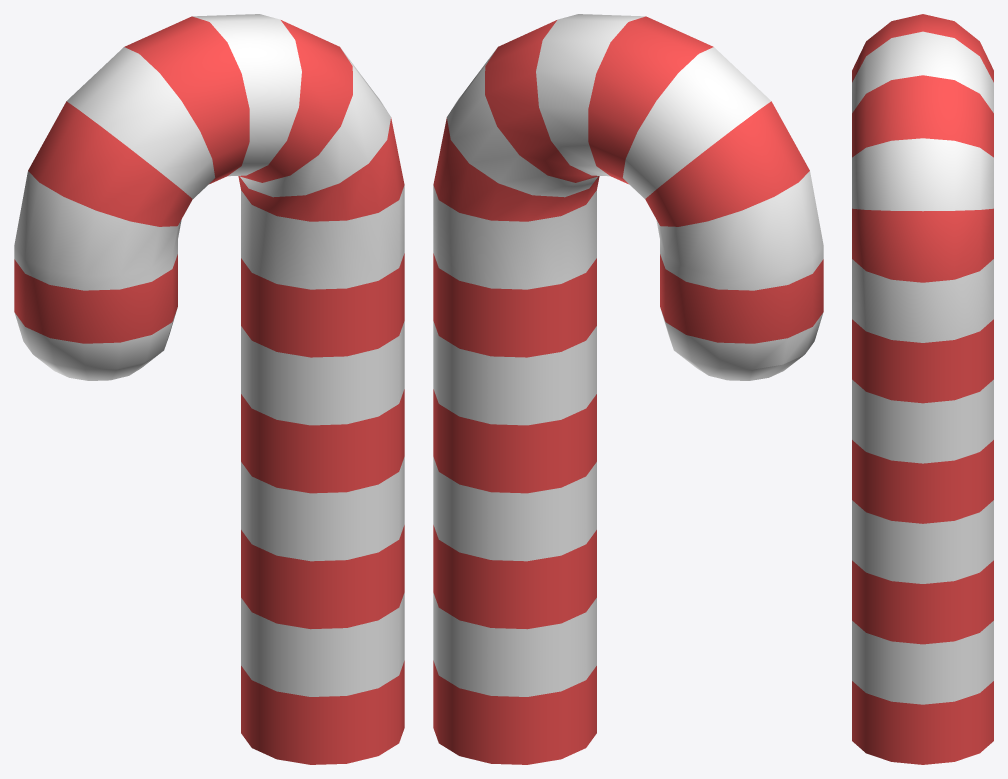
File: Candy_Caine.fbx
The picture shows the model from 3 angles, left to right: view 1: azimuth 30°, elevation 25°; view 2: azimuth 150°, elevation 25°; view 3: azimuth 270°, elevation 25°; orthographic projection. The views are drawn at different scales.
Visible parts, largest first — view 1: Candy_Caine; view 2: Candy_Caine; view 3: Candy_Caine.
Part boxes in pixels (x1,y1,x2,y2): Candy_Caine: (14, 14, 404, 764); Candy_Caine: (433, 14, 823, 764); Candy_Caine: (852, 14, 993, 764).
Bounding box in the file's own units: 214 × 408 × 80.23.
